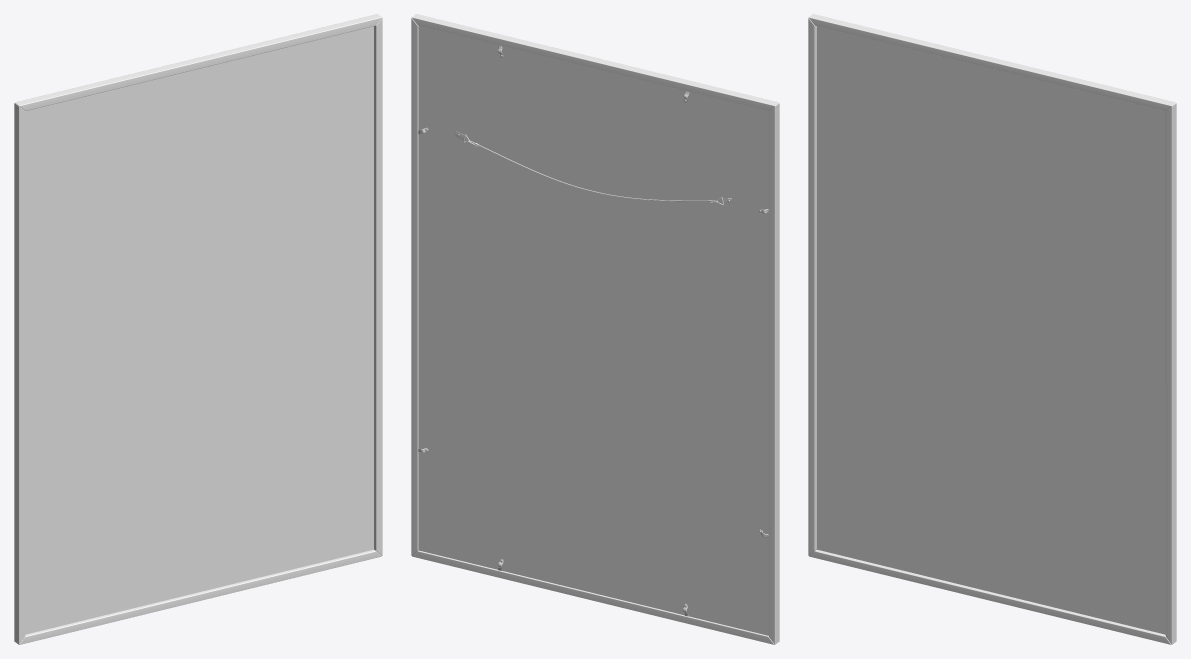
The model's file is PH_HangingFrame_01.glb.
3 renders of one model, left to right at view 1: azimuth 30°, elevation 25°; view 2: azimuth 150°, elevation 25°; view 3: azimuth 330°, elevation 25°, orthographic.
Visible parts, largest first — view 1: hanging_picture_frame_01; view 2: hanging_picture_frame_01; view 3: hanging_picture_frame_01.
Part boxes in pixels (x1,y1,x2,y2): hanging_picture_frame_01: [14, 14, 382, 644]; hanging_picture_frame_01: [411, 14, 779, 644]; hanging_picture_frame_01: [808, 14, 1176, 644].
Size of the model in its own units: 0.594 by 0.841 by 0.0157.
3 materials, 1 textured.
